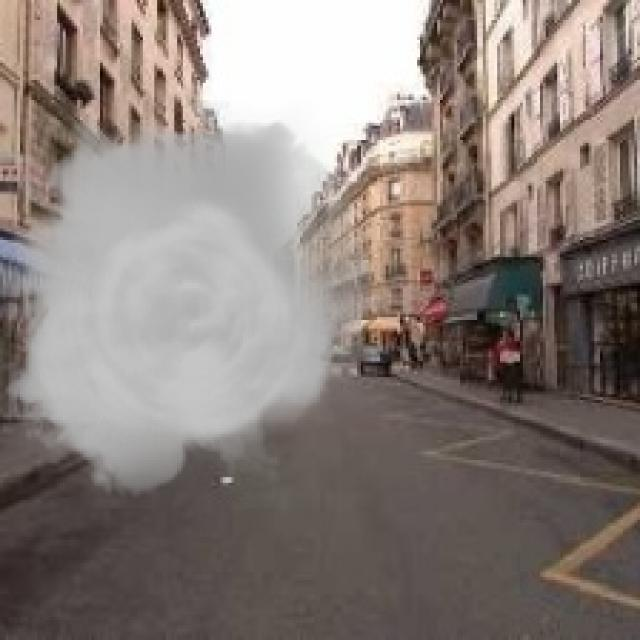smoke: (0, 100, 372, 509)
